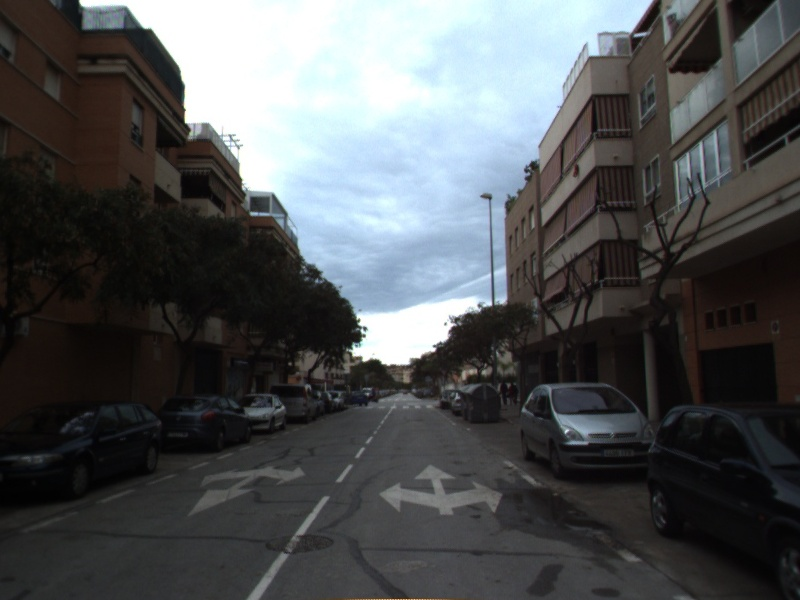STRAIGHT_LEFT_RIGHT: (377, 461, 506, 517)
